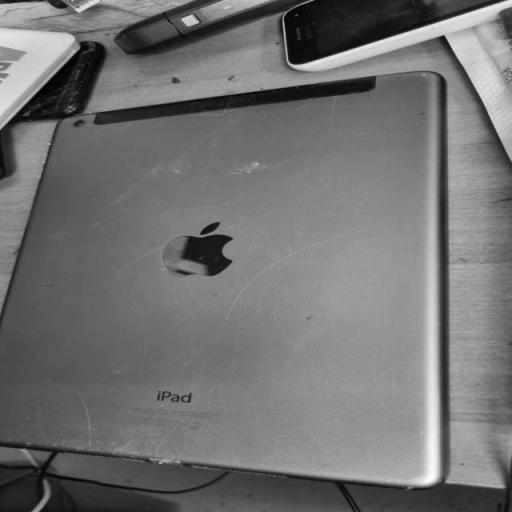phone: (0, 71, 453, 482), (288, 5, 511, 74)
